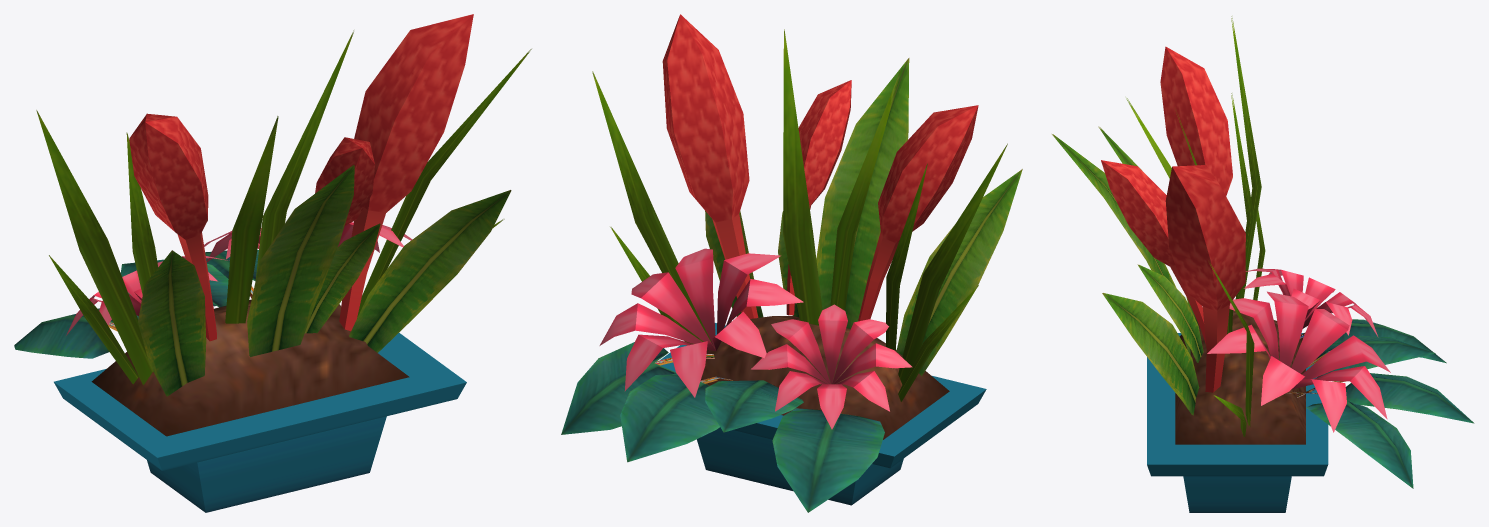
The model's file is ETC0610026.fbx.
3 renders of one model, left to right at view 1: azimuth 30°, elevation 25°; view 2: azimuth 150°, elevation 25°; view 3: azimuth 270°, elevation 25°, orthographic. The views are drawn at different scales.
Parts seen in each view (by area): view 1: smETC0610026; view 2: smETC0610026; view 3: smETC0610026.
Boxes of the visible parts, x1,y1,x2,y2 form: smETC0610026: (14, 14, 531, 512); smETC0610026: (561, 14, 1022, 512); smETC0610026: (1052, 16, 1474, 512).
Bounding box in the file's own units: 54.96 × 49.65 × 47.96.
1 material, 1 textured.
